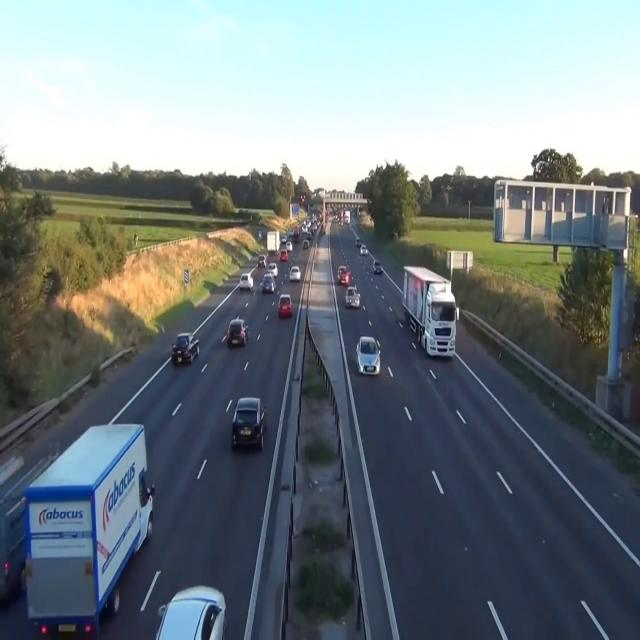belum terisi: (22, 415, 154, 631), (395, 255, 462, 369), (146, 570, 232, 640), (228, 390, 270, 460), (349, 324, 389, 382), (168, 326, 200, 369), (224, 311, 251, 356), (343, 278, 364, 312), (274, 287, 294, 320), (237, 265, 256, 296)
